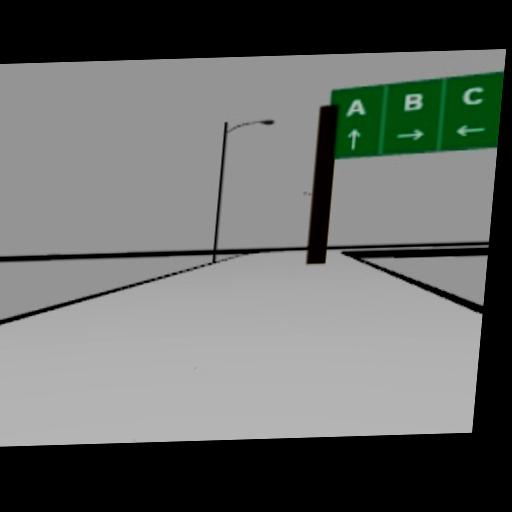A: (345, 97, 366, 117)
B: (403, 92, 423, 111)
C: (461, 85, 486, 105)
Left: (453, 123, 488, 136)
Right: (394, 127, 426, 142)
Straight: (346, 127, 362, 151)
